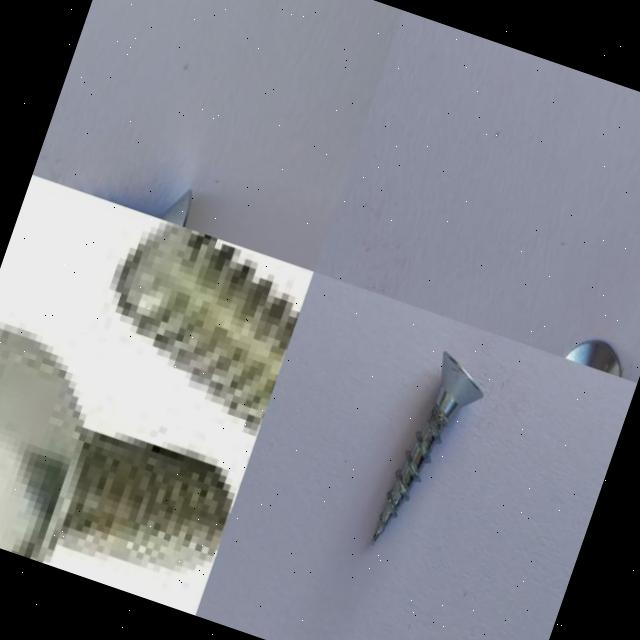Screw: (0, 317, 237, 575), (115, 221, 301, 434), (370, 351, 482, 545)
